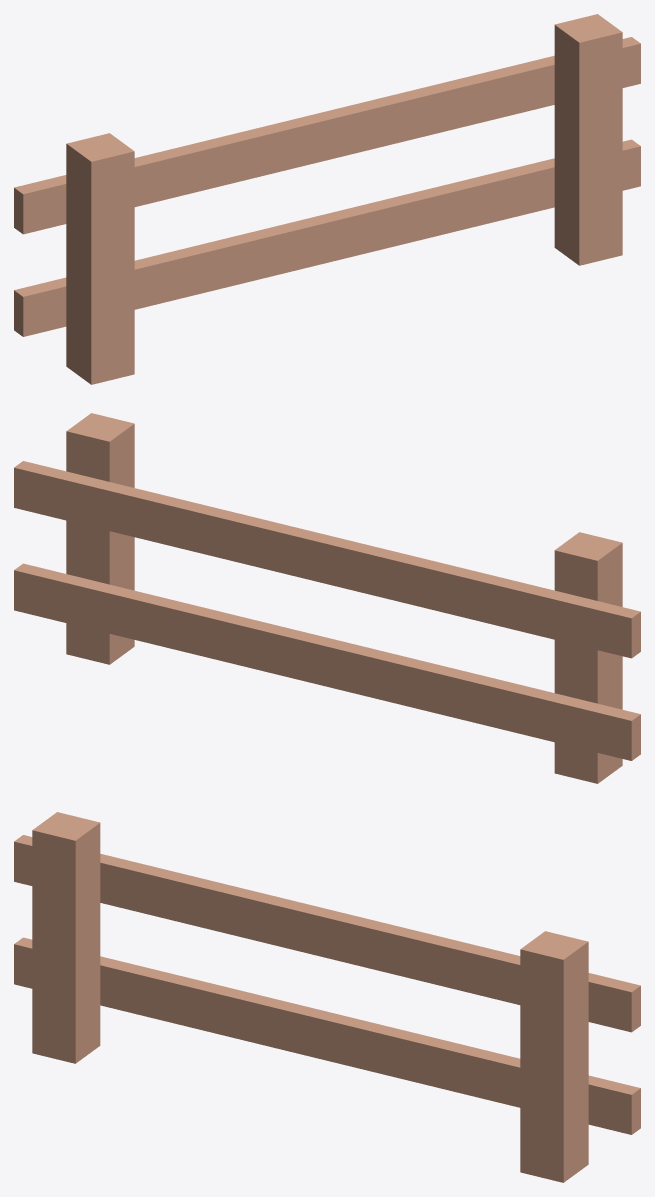
Rendered from fence_planks.glb.
3 views of the same model, one above another, from view 1: azimuth 30°, elevation 25°; view 2: azimuth 150°, elevation 25°; view 3: azimuth 330°, elevation 25° (orthographic).
Parts seen in each view (by area): view 1: fence_planks; view 2: fence_planks; view 3: fence_planks.
Boxes of the visible parts, x1=… form: fence_planks: x1=14, y1=14, x2=640, y2=384; fence_planks: x1=14, y1=413, x2=640, y2=783; fence_planks: x1=14, y1=812, x2=640, y2=1182.
Bounding box in the file's own units: 1 × 0.345 × 0.0959.
